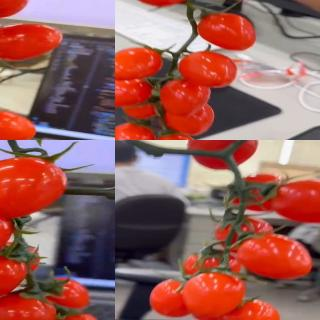tomato: (0, 155, 65, 218), (236, 234, 314, 280), (181, 272, 246, 320), (0, 18, 64, 64), (230, 173, 294, 213), (268, 176, 320, 224), (196, 11, 258, 51), (213, 215, 276, 252), (177, 49, 237, 87), (185, 140, 259, 170), (146, 276, 196, 317), (161, 77, 211, 116), (38, 279, 91, 313), (165, 102, 215, 138), (115, 46, 164, 79), (218, 296, 281, 320), (0, 296, 57, 320), (0, 252, 27, 300), (180, 248, 223, 278), (0, 107, 36, 140), (115, 77, 153, 108), (115, 120, 158, 140), (34, 311, 104, 320), (125, 0, 192, 8), (153, 133, 200, 140)
